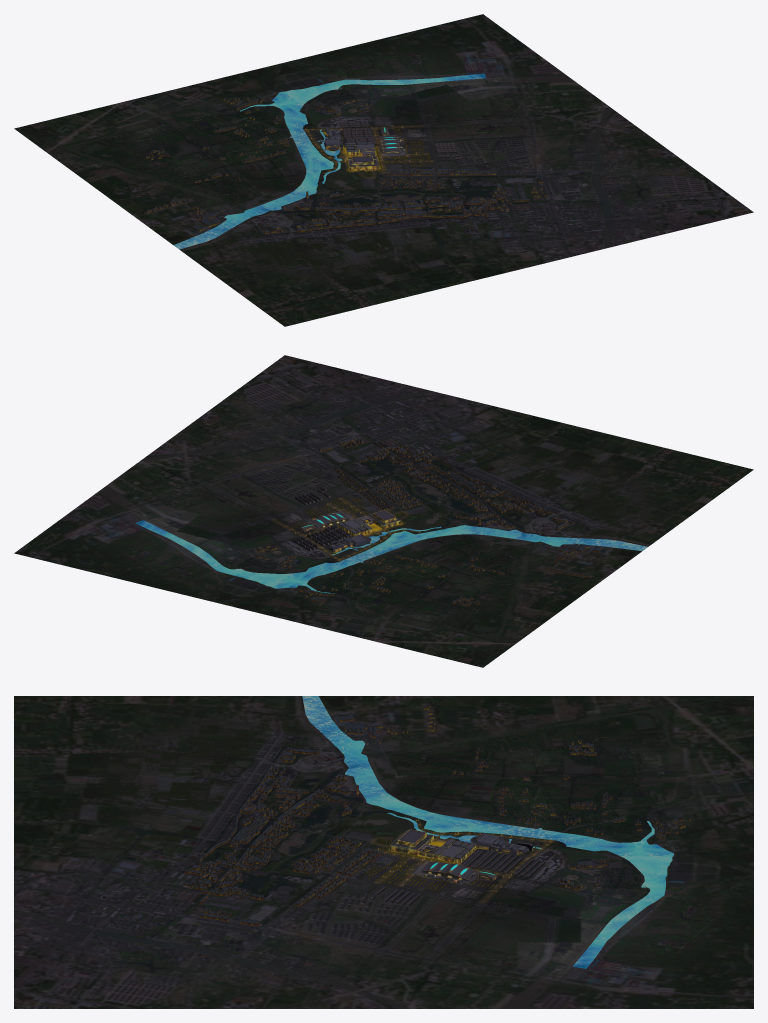
The model's file is mode2.fbx.
3 renders of one model, top to bottom at view 1: azimuth 30°, elevation 25°; view 2: azimuth 150°, elevation 25°; view 3: azimuth 270°, elevation 25°, orthographic. The views are drawn at different scales.
Visible parts, largest first — view 1: midMap, smallMap, river, outBuildingTop, outBuildingSide, Object003, Object002, Object001, huizhan; view 2: midMap, smallMap, river, outBuildingSide, outBuildingTop, Object003, Object002, Object001, huizhan; view 3: midMap, smallMap, river, outBuildingSide, outBuildingTop, Object003, Object002, huizhan, Object001, huike, bolan.
Boxes of the visible parts, x1=… form: midMap: x1=14, y1=14, x2=753, y2=326; smallMap: x1=247, y1=93, x2=479, y2=178; river: x1=173, y1=73, x2=485, y2=249; outBuildingTop: x1=258, y1=168, x2=548, y2=232; outBuildingSide: x1=258, y1=169, x2=548, y2=233; Object003: x1=304, y1=123, x2=383, y2=191; Object002: x1=144, y1=97, x2=370, y2=231; Object001: x1=145, y1=96, x2=370, y2=230; huizhan: x1=345, y1=142, x2=378, y2=170; midMap: x1=14, y1=355, x2=753, y2=667; smallMap: x1=221, y1=483, x2=427, y2=582; river: x1=135, y1=520, x2=647, y2=593; outBuildingSide: x1=319, y1=438, x2=573, y2=530; outBuildingTop: x1=320, y1=437, x2=573, y2=528; Object003: x1=310, y1=507, x2=453, y2=560; Object002: x1=256, y1=544, x2=601, y2=606; Object001: x1=256, y1=543, x2=601, y2=604; huizhan: x1=339, y1=510, x2=401, y2=536; midMap: x1=14, y1=696, x2=753, y2=1008; smallMap: x1=359, y1=812, x2=592, y2=910; river: x1=302, y1=696, x2=673, y2=968; outBuildingSide: x1=184, y1=748, x2=380, y2=926; outBuildingTop: x1=184, y1=747, x2=380, y2=924; Object003: x1=359, y1=812, x2=548, y2=861; Object002: x1=338, y1=703, x2=690, y2=890; huizhan: x1=390, y1=829, x2=476, y2=863; Object001: x1=338, y1=702, x2=690, y2=888; huike: x1=470, y1=832, x2=532, y2=854; bolan: x1=420, y1=861, x2=478, y2=880.
Size of what is drawn, in the model's own units: 230 by 3.97 by 230.
